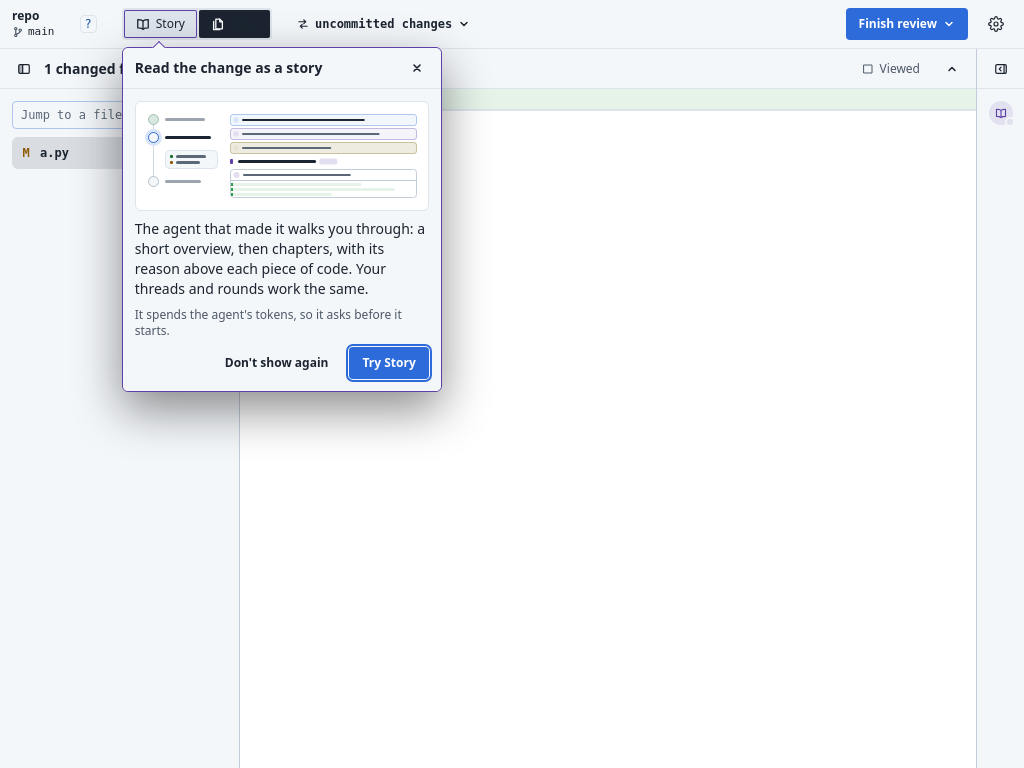
Test: Story introduced at the switch › asks for the story and shows where it will be, where Try Story is pressed and stories are written unasked
What coordinates should you click on to do the following:
click the button with test id "try-story"
I would click on:
 (389, 363)
Its box is x1=350 y1=347 x2=429 y2=379.
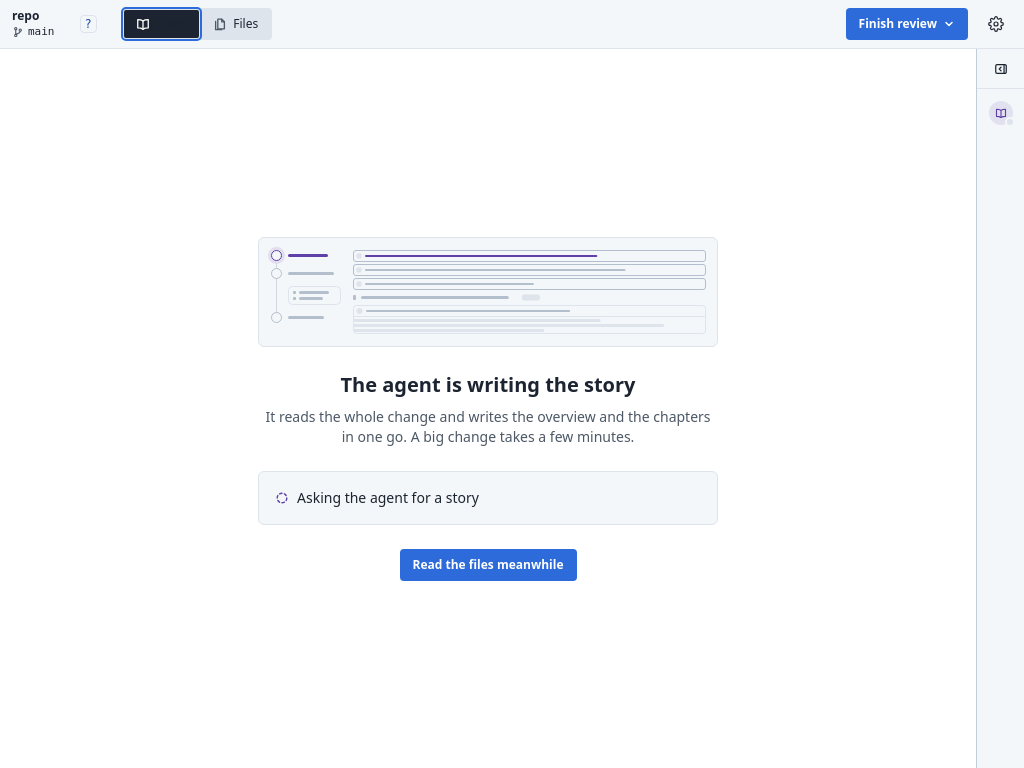
Now the element with test id "story-view" is shown
